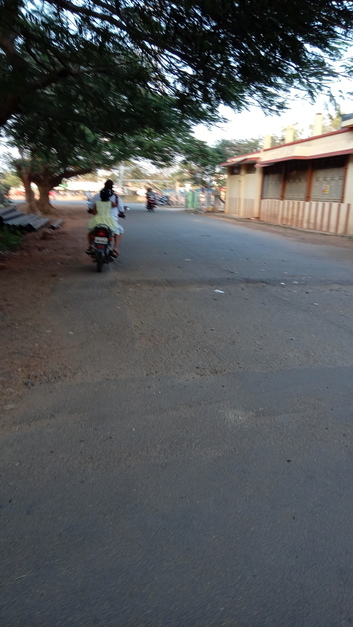bump: (54, 274, 353, 297)
